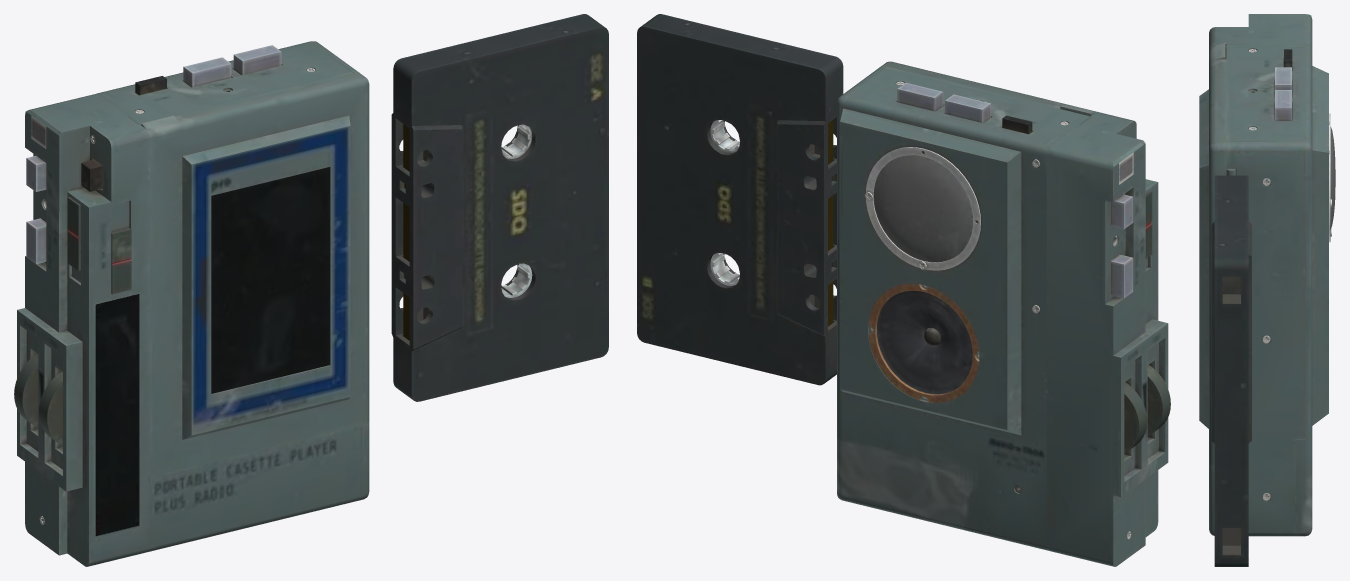
Rendered from portable_cassette_player.glb.
The picture shows the model from 3 angles, left to right: view 1: azimuth 30°, elevation 25°; view 2: azimuth 150°, elevation 25°; view 3: azimuth 270°, elevation 25°; orthographic projection. The views are drawn at different scales.
Parts seen in each view (by area): view 1: portable_cassette_player, portable_cassette_player_lid, portable_cassette_player_casette; view 2: portable_cassette_player, portable_cassette_player_casette, portable_cassette_player_lid; view 3: portable_cassette_player, portable_cassette_player_casette, portable_cassette_player_lid.
Boxes of the visible parts, bbox=[...] form: portable_cassette_player: bbox=[14, 41, 369, 566]; portable_cassette_player_lid: bbox=[141, 72, 369, 476]; portable_cassette_player_casette: bbox=[391, 14, 608, 401]; portable_cassette_player: bbox=[837, 66, 1170, 566]; portable_cassette_player_casette: bbox=[637, 14, 843, 385]; portable_cassette_player_lid: bbox=[881, 61, 1097, 116]; portable_cassette_player: bbox=[1209, 14, 1335, 536]; portable_cassette_player_casette: bbox=[1211, 175, 1251, 566]; portable_cassette_player_lid: bbox=[1199, 42, 1235, 466].
Bounding box in the file's own units: 0.1723 × 0.1303 × 0.0397.
2 materials, 2 textured.
